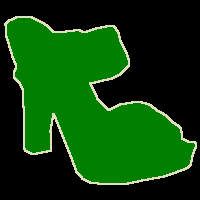shoe: (5, 17, 196, 184)
